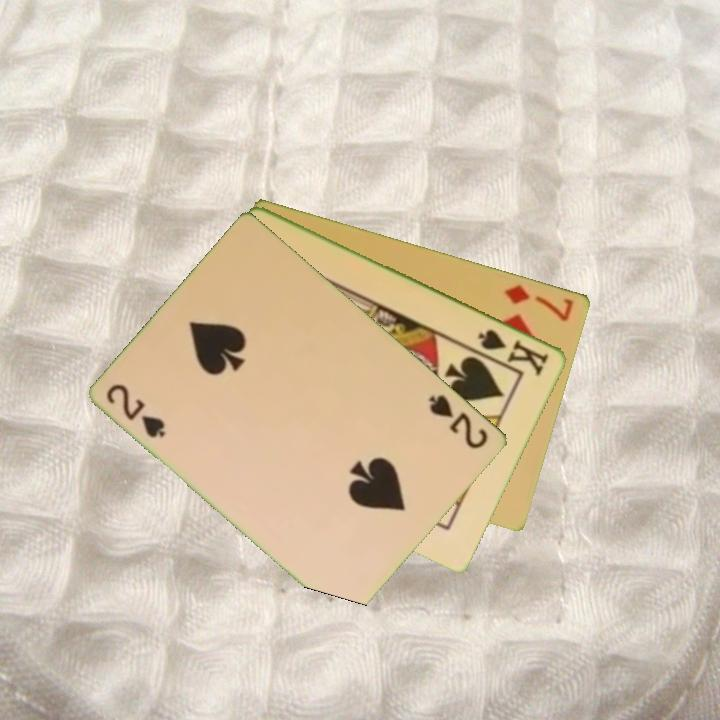2s: (103, 380, 169, 441), (426, 391, 491, 452)
7d: (501, 280, 577, 324)
Ks: (475, 325, 553, 379)
